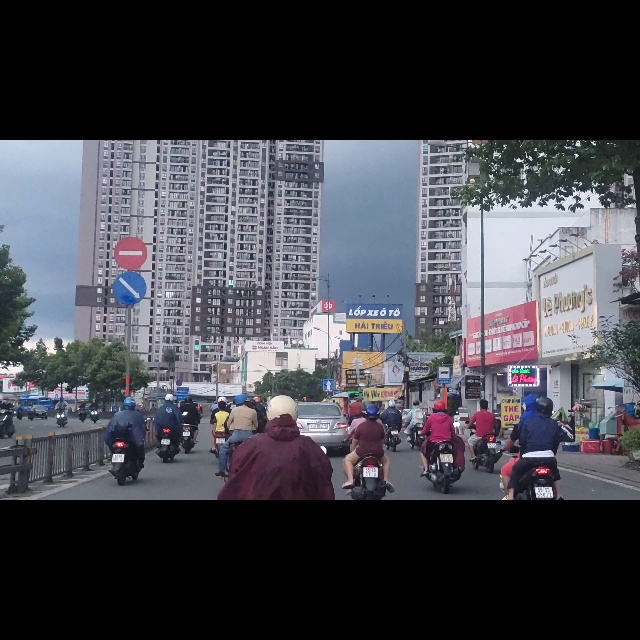bien_hieu_lenh: (110, 232, 148, 296), (113, 168, 149, 234), (437, 401, 450, 432), (323, 425, 334, 444)
